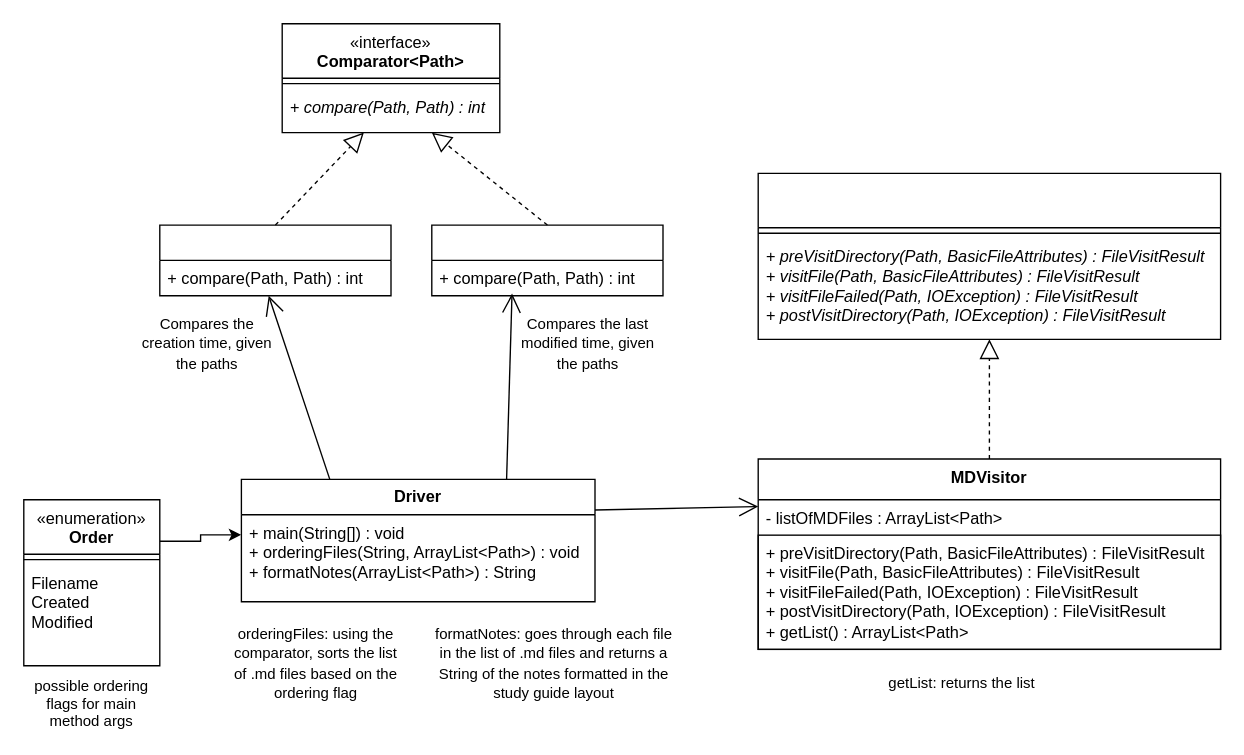
Image size: 1244x755. Some labels were removed from this diagram. The box of each missing label's shape, as (x1, y1, x2, y2) in pixels:
CreatedComparator: (158, 224, 391, 296)
ModifiedComparator: (430, 224, 663, 296)
«interface» FileVisitor<Path>: (757, 172, 1221, 339)
